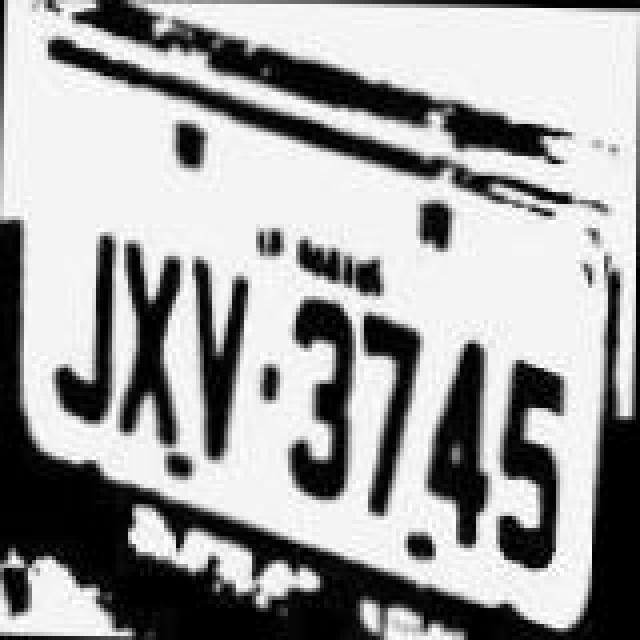3: (284, 288, 360, 524)
4: (426, 320, 502, 552)
5: (490, 342, 574, 578)
7: (354, 306, 426, 534)
J: (44, 210, 124, 438)
V: (190, 254, 266, 466)
X: (114, 232, 190, 452)
